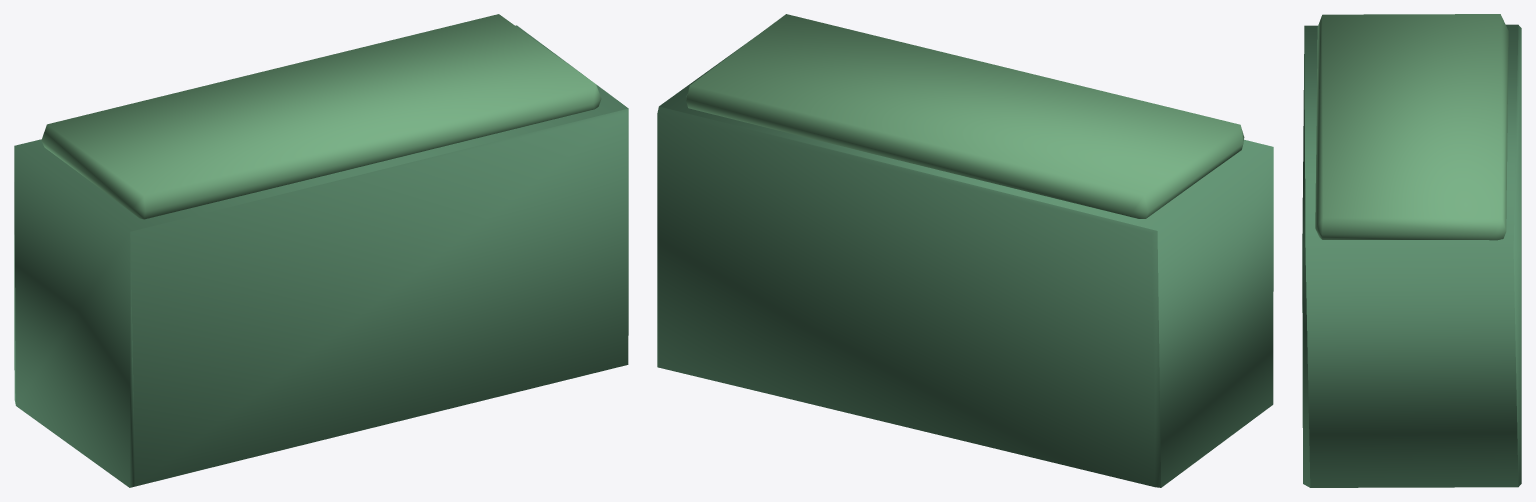
File: SM_Warmerdamm_Hedge_LOD2.fbx
3 views of the same model, side by side, from view 1: azimuth 30°, elevation 25°; view 2: azimuth 150°, elevation 25°; view 3: azimuth 270°, elevation 25° (orthographic). The views are drawn at different scales.
Visible parts, largest first — view 1: SM_Warmerdamm_Hedge_LOD2; view 2: SM_Warmerdamm_Hedge_LOD2; view 3: SM_Warmerdamm_Hedge_LOD2.
Part boxes in pixels (box(x1,y1,x2,y2)): SM_Warmerdamm_Hedge_LOD2: box(14, 14, 628, 487); SM_Warmerdamm_Hedge_LOD2: box(657, 14, 1273, 487); SM_Warmerdamm_Hedge_LOD2: box(1302, 14, 1521, 487).
Bounding box in the file's own units: 2.37 × 1.27 × 0.9744.
